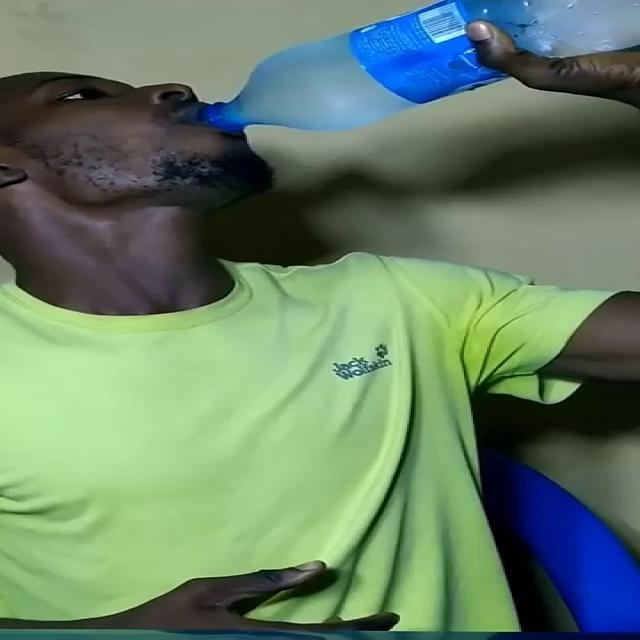Bottle: (208, 2, 640, 130)
Hand: (407, 2, 640, 106)
Mouth: (166, 106, 238, 133)
